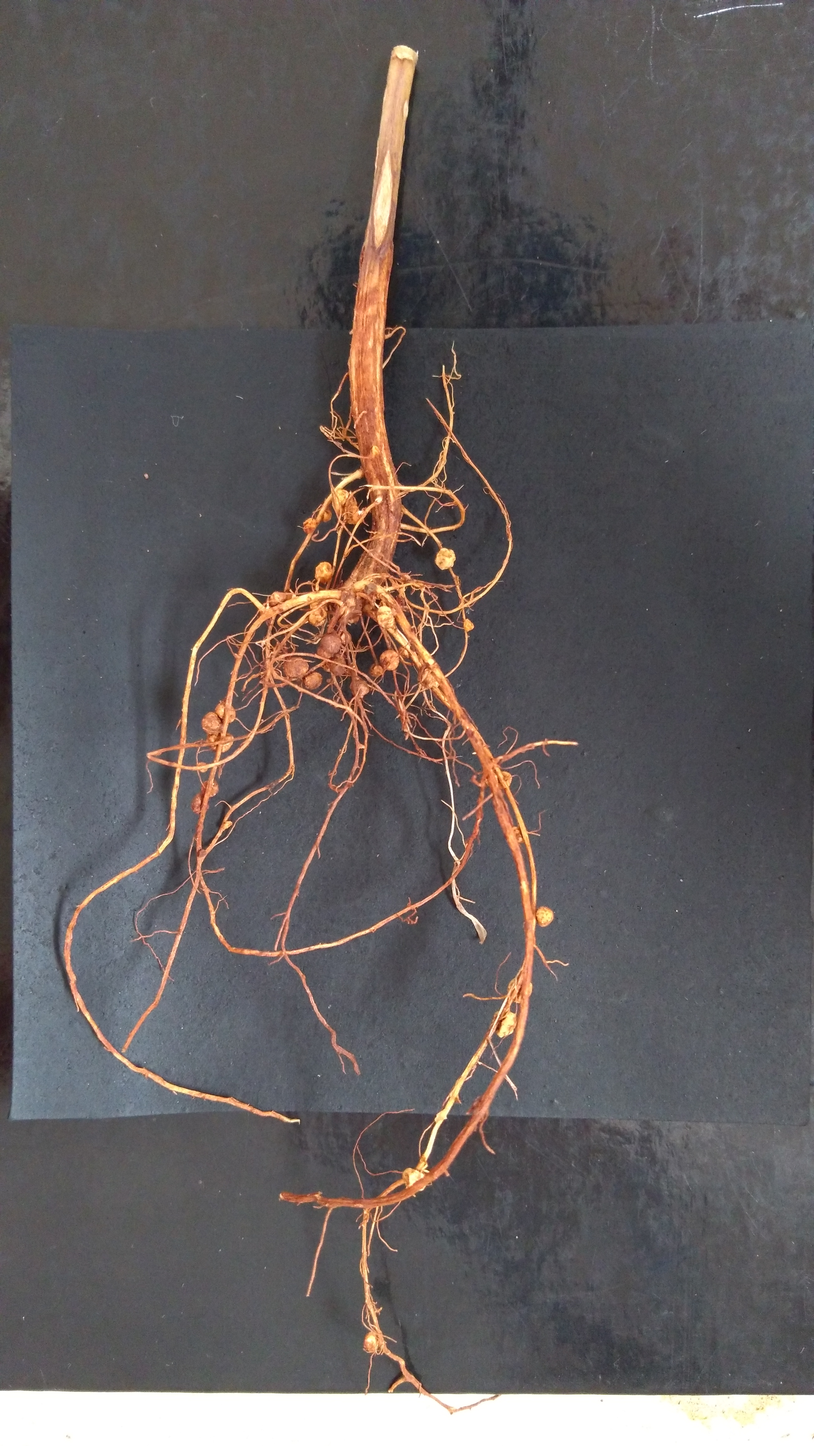nodule: (332, 488, 365, 524), (489, 1009, 518, 1037), (336, 594, 363, 624), (316, 631, 341, 660), (507, 976, 533, 1003), (401, 1167, 427, 1192), (206, 730, 234, 753), (418, 666, 441, 690), (201, 711, 224, 735), (484, 771, 513, 789), (283, 657, 309, 677), (434, 548, 456, 570), (214, 701, 236, 722), (326, 652, 346, 675), (380, 649, 400, 671), (376, 605, 395, 628), (190, 791, 209, 814), (349, 677, 370, 697), (314, 562, 333, 584), (308, 604, 327, 626), (302, 671, 323, 690), (536, 905, 554, 927), (363, 1330, 380, 1352), (201, 778, 219, 797), (309, 597, 329, 612), (269, 591, 287, 606), (512, 825, 527, 843), (302, 518, 316, 534), (369, 663, 384, 677), (398, 646, 411, 659), (463, 618, 475, 632), (322, 507, 332, 523), (340, 631, 352, 644), (370, 444, 380, 458), (380, 571, 395, 580), (197, 762, 208, 774), (395, 594, 405, 607), (222, 820, 233, 830), (400, 573, 411, 582), (197, 848, 207, 857), (379, 601, 386, 607), (326, 678, 332, 683)
